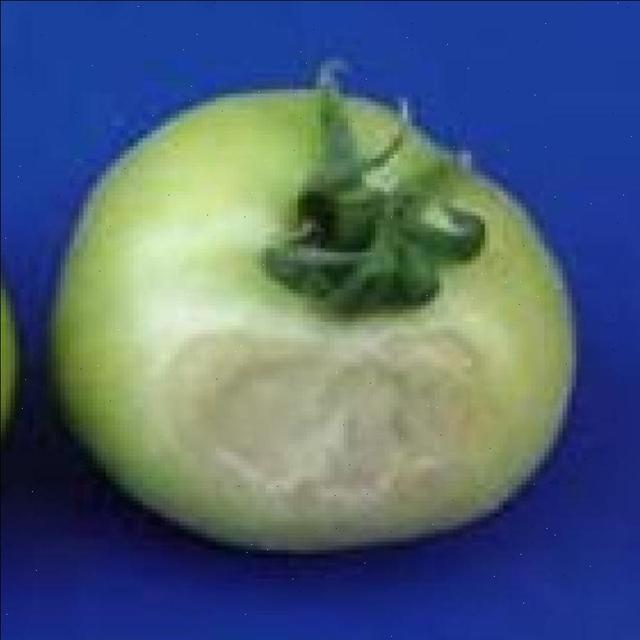Sunscald Fruit: (108, 203, 330, 331)
